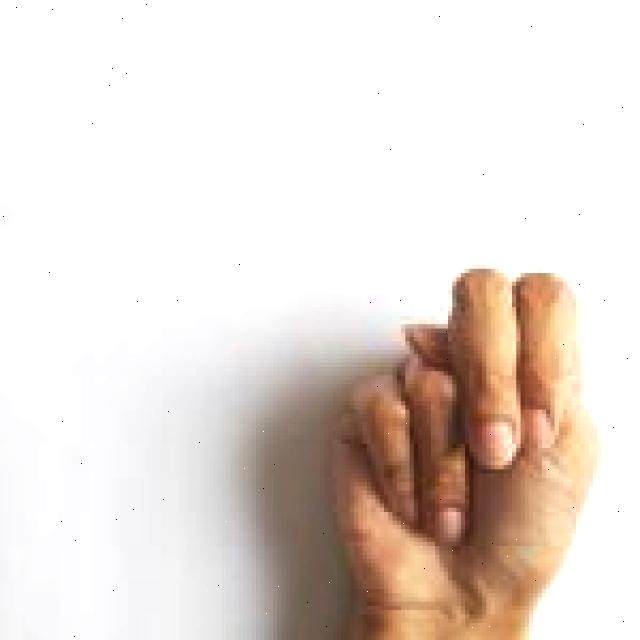N: (326, 257, 608, 640)
